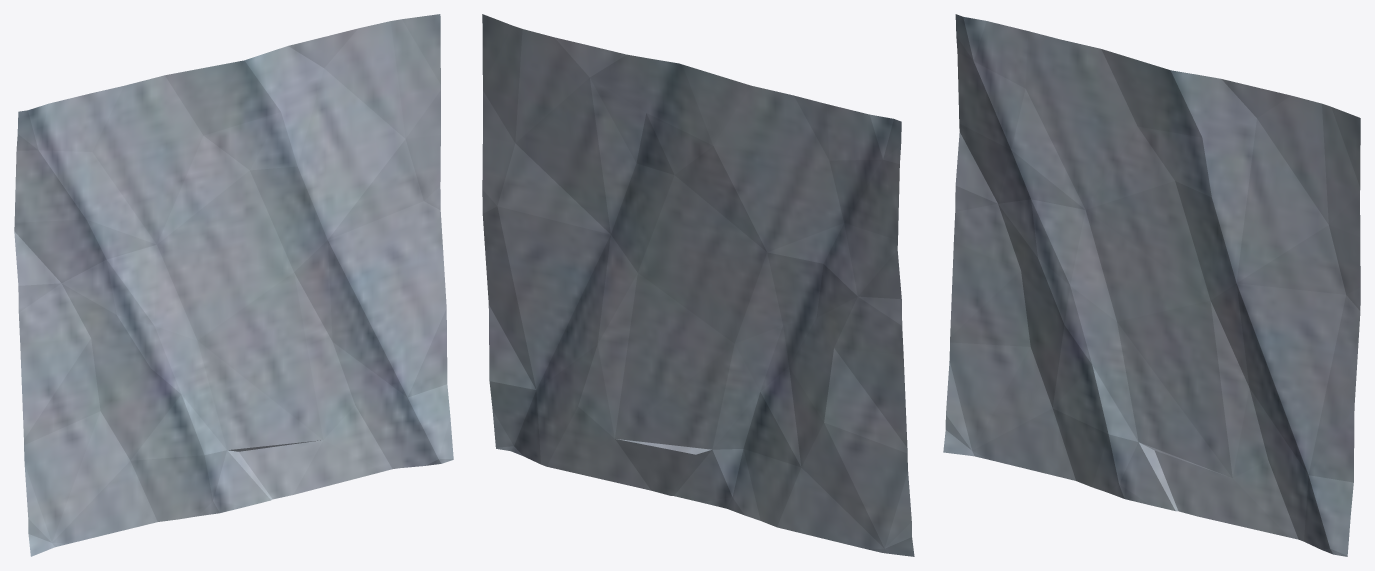
File: Tile_+003_+008_L24_0002322.obj
3 renders of one model, left to right at view 1: azimuth 30°, elevation 25°; view 2: azimuth 150°, elevation 25°; view 3: azimuth 330°, elevation 25°, orthographic. The views are drawn at different scales.
Size of the model in its own units: 0.9531 by 0.9531 by 0.0952.
Materials: 1 (1 with a texture image).
